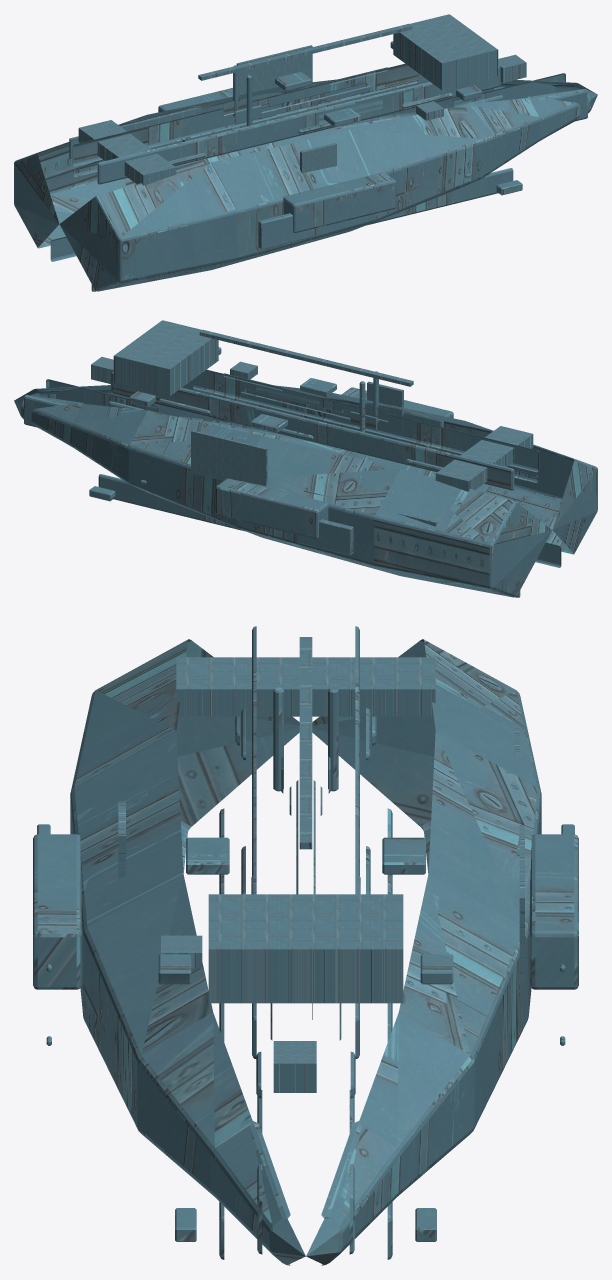
The model's file is hull_corvette.glb.
The picture shows the model from 3 angles, top to bottom: view 1: azimuth 30°, elevation 25°; view 2: azimuth 150°, elevation 25°; view 3: azimuth 270°, elevation 25°; orthographic projection. The views are drawn at different scales.
Visible parts, largest first — view 1: LOD0_HULL_CORVETTE_MAIN, DET_bridge_super, DET_engine_vent, DET_corporate_stencil, DET_escort_nav_stripe, DET_field_patch, DET_dock_wear, DET_sensor_array, DET_turret_collar; view 2: LOD0_HULL_CORVETTE_MAIN, DET_bridge_super, DET_corporate_stencil, DET_engine_vent, DET_escort_nav_stripe, DET_field_patch, DET_sensor_array; view 3: LOD0_HULL_CORVETTE_MAIN, DET_bridge_super, DET_engine_vent, DET_escort_nav_stripe, DET_sensor_array, DET_turret_collar, DET_corporate_stencil.
Part boxes in pixels (x1=…): LOD0_HULL_CORVETTE_MAIN: x1=14, y1=41, x2=597, y2=291; DET_bridge_super: x1=393, y1=14, x2=498, y2=90; DET_engine_vent: x1=78, y1=120, x2=176, y2=185; DET_corporate_stencil: x1=236, y1=45, x2=312, y2=100; DET_escort_nav_stripe: x1=198, y1=23, x2=412, y2=80; DET_field_patch: x1=300, y1=143, x2=336, y2=173; DET_dock_wear: x1=69, y1=107, x2=201, y2=158; DET_sensor_array: x1=498, y1=54, x2=526, y2=82; DET_turret_collar: x1=416, y1=101, x2=443, y2=120; LOD0_HULL_CORVETTE_MAIN: x1=14, y1=347, x2=597, y2=597; DET_bridge_super: x1=113, y1=320, x2=218, y2=396; DET_corporate_stencil: x1=191, y1=430, x2=267, y2=485; DET_engine_vent: x1=435, y1=426, x2=533, y2=491; DET_escort_nav_stripe: x1=199, y1=329, x2=413, y2=386; DET_field_patch: x1=367, y1=381, x2=403, y2=415; DET_sensor_array: x1=91, y1=357, x2=113, y2=383; LOD0_HULL_CORVETTE_MAIN: x1=33, y1=626, x2=578, y2=1265; DET_bridge_super: x1=208, y1=894, x2=403, y2=1003; DET_engine_vent: x1=176, y1=657, x2=435, y2=716; DET_escort_nav_stripe: x1=299, y1=637, x2=312, y2=849; DET_sensor_array: x1=273, y1=1041, x2=316, y2=1092; DET_turret_collar: x1=161, y1=935, x2=202, y2=968; DET_corporate_stencil: x1=519, y1=825, x2=524, y2=981.
Size of the model in its own units: 11.5 by 3.46 by 5.05.
Materials: 3 (3 with a texture image).
